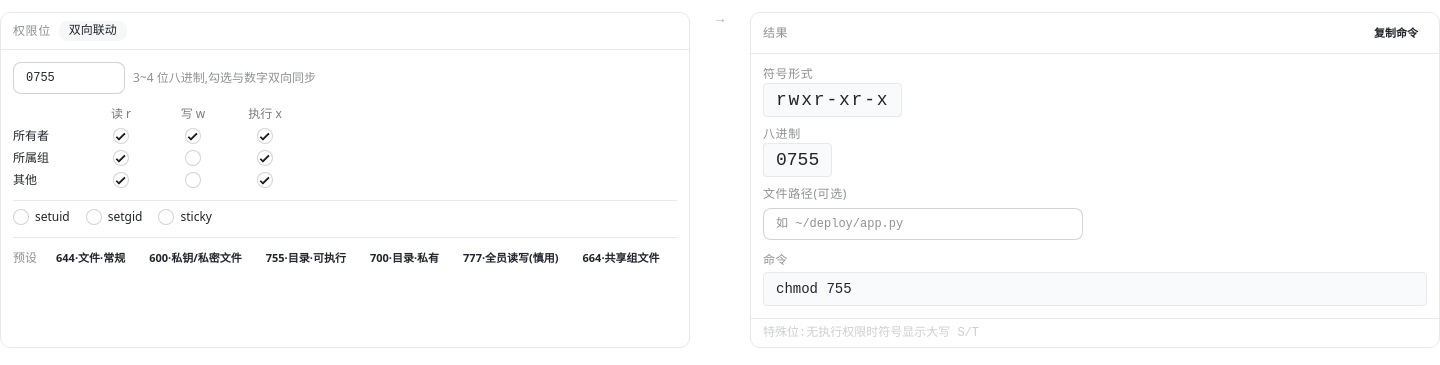
Scenario: ChmodCalc 权限互算 › 特殊位:4755 显示 rwsr-xr-x 且命令用四位形式
The width and height of the screenshot is (1440, 365).
Replace the text in the field named "八进制" with "4755" at {"x": 69, "y": 78}, box [13,62,125,94]
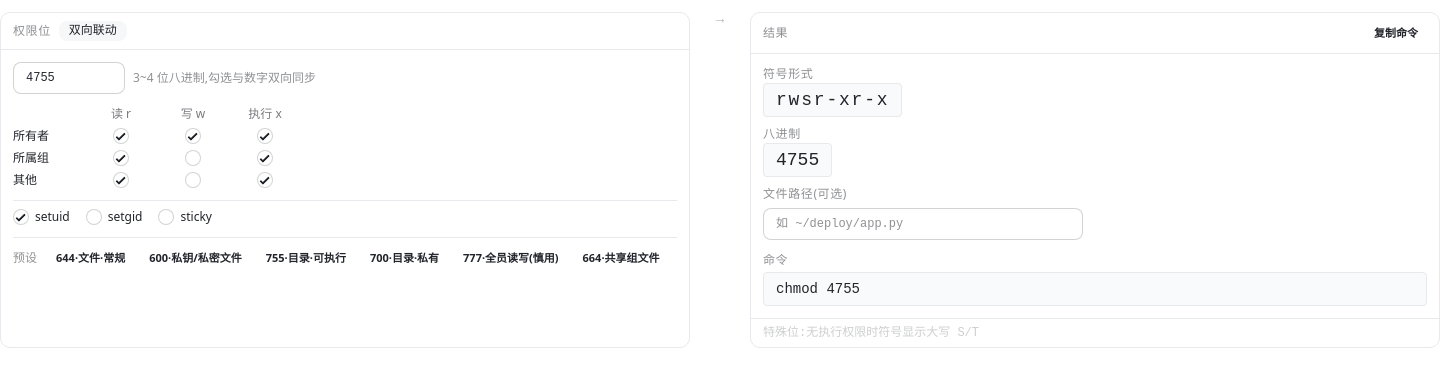
Now the text "rwsr-xr-x" is shown, box [763,83,902,117]
Now the text "chmod 4755" is shown, box [763,272,1427,306]
